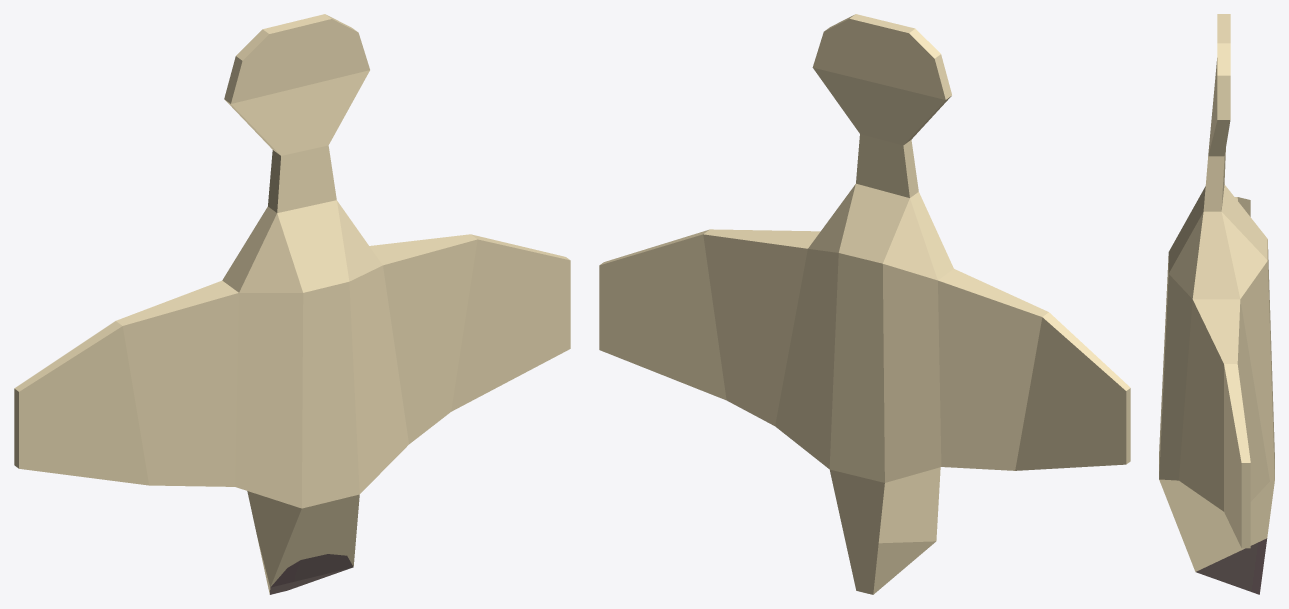
File: 212_bird.gltf
3 views of the same model, side by side, from view 1: azimuth 30°, elevation 25°; view 2: azimuth 150°, elevation 25°; view 3: azimuth 270°, elevation 25° (orthographic). The views are drawn at different scales.
Parts seen in each view (by area): view 1: bird; view 2: bird; view 3: bird.
Boxes of the visible parts, x1,y1,x2,y2 form: bird: (14, 14, 570, 594); bird: (599, 14, 1130, 594); bird: (1159, 14, 1274, 594).
Bounding box in the file's own units: 1.66 × 1.67 × 0.3122.
1 material, 1 textured.
